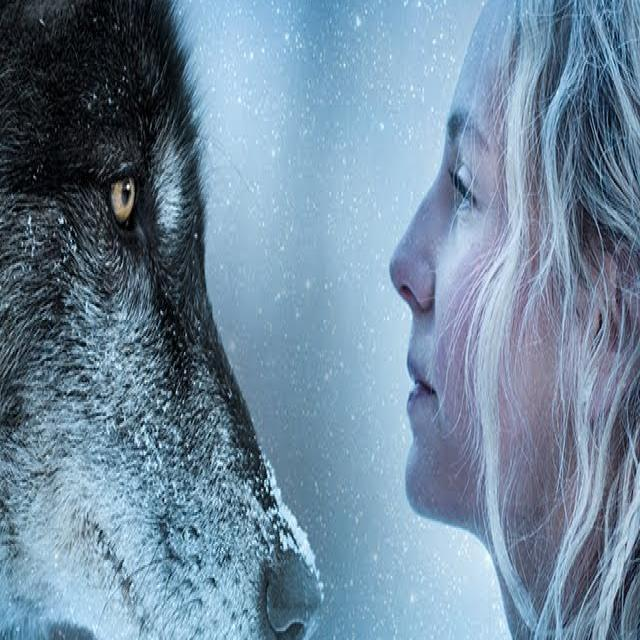wolf: (0, 0, 370, 640)
